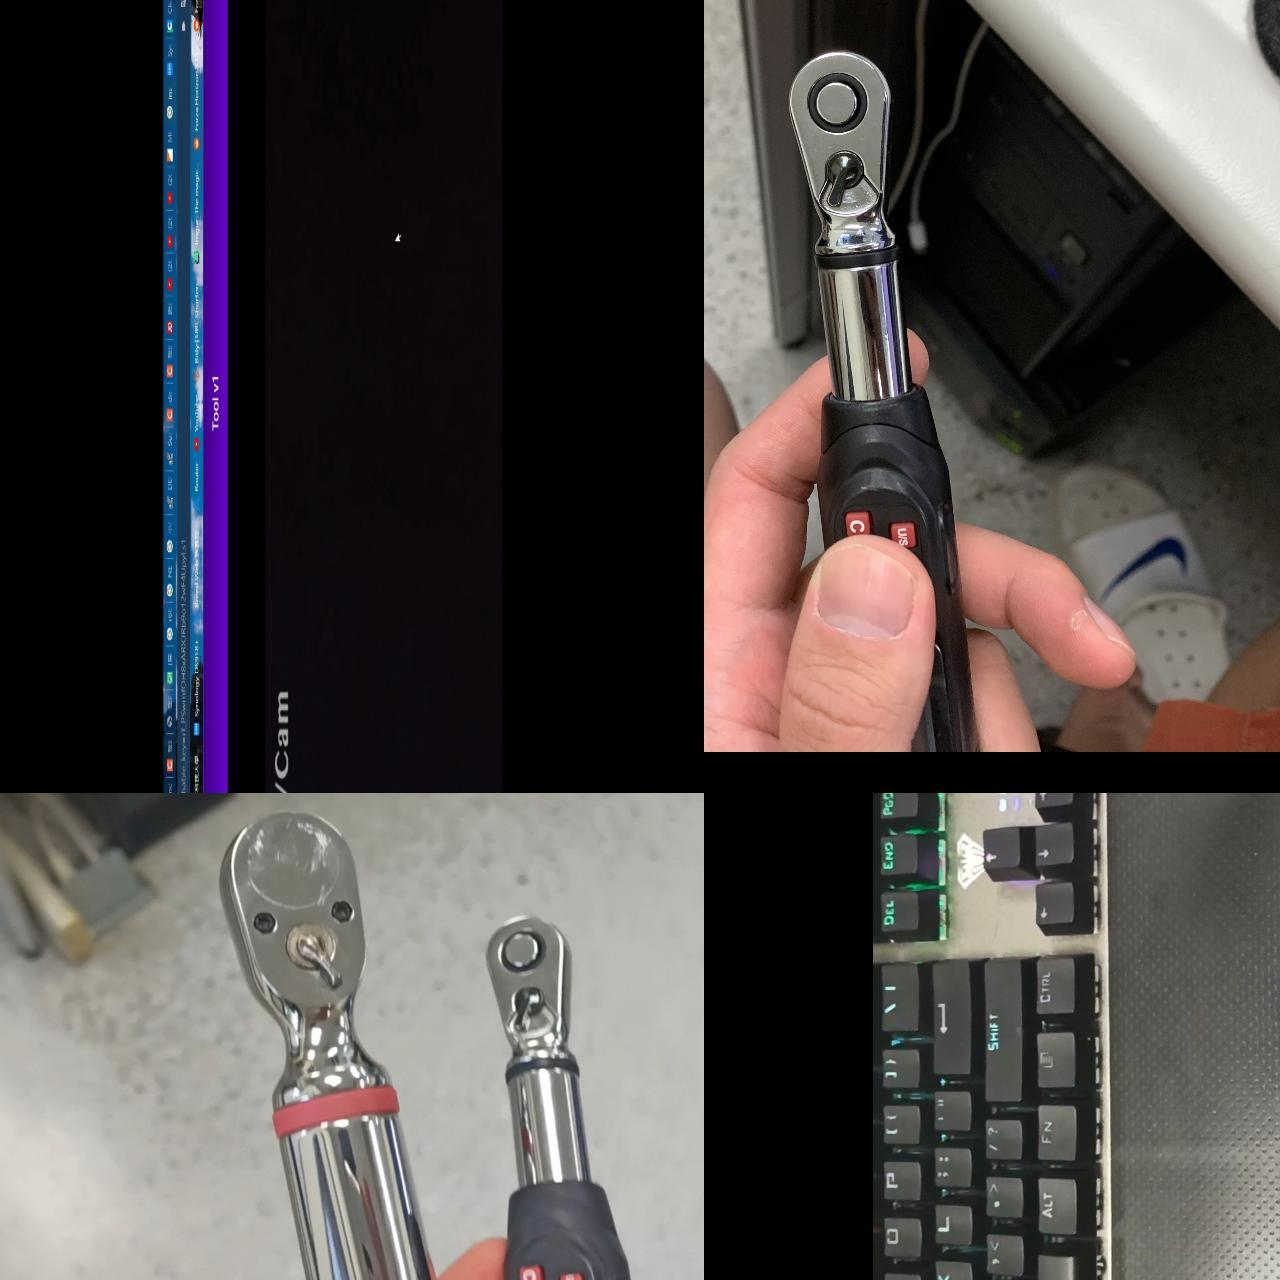Tool: (215, 818, 378, 1108), (778, 48, 900, 258), (485, 914, 573, 1064)
